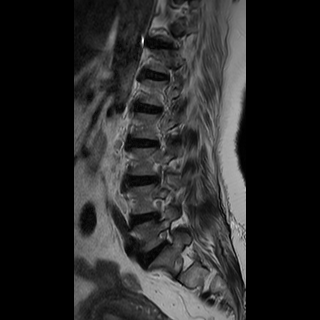LFS0: (152, 223, 182, 256)
